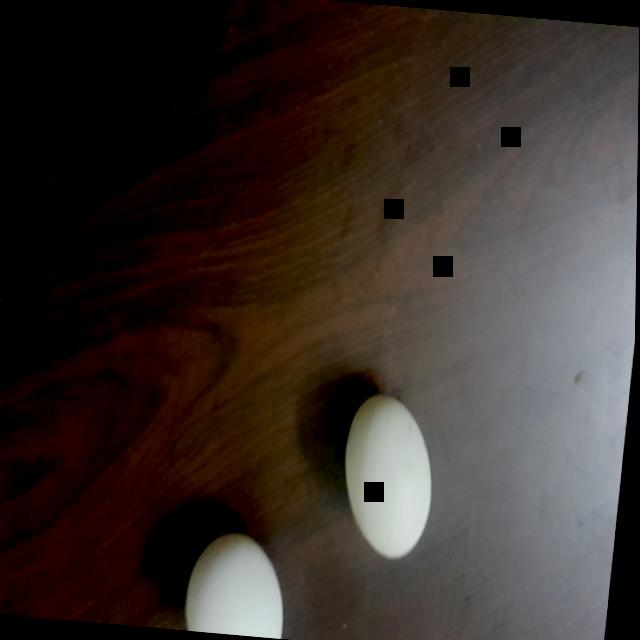eggs: (335, 387, 445, 565), (185, 527, 295, 635)
